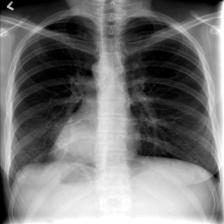normal: (5, 14, 222, 195)
